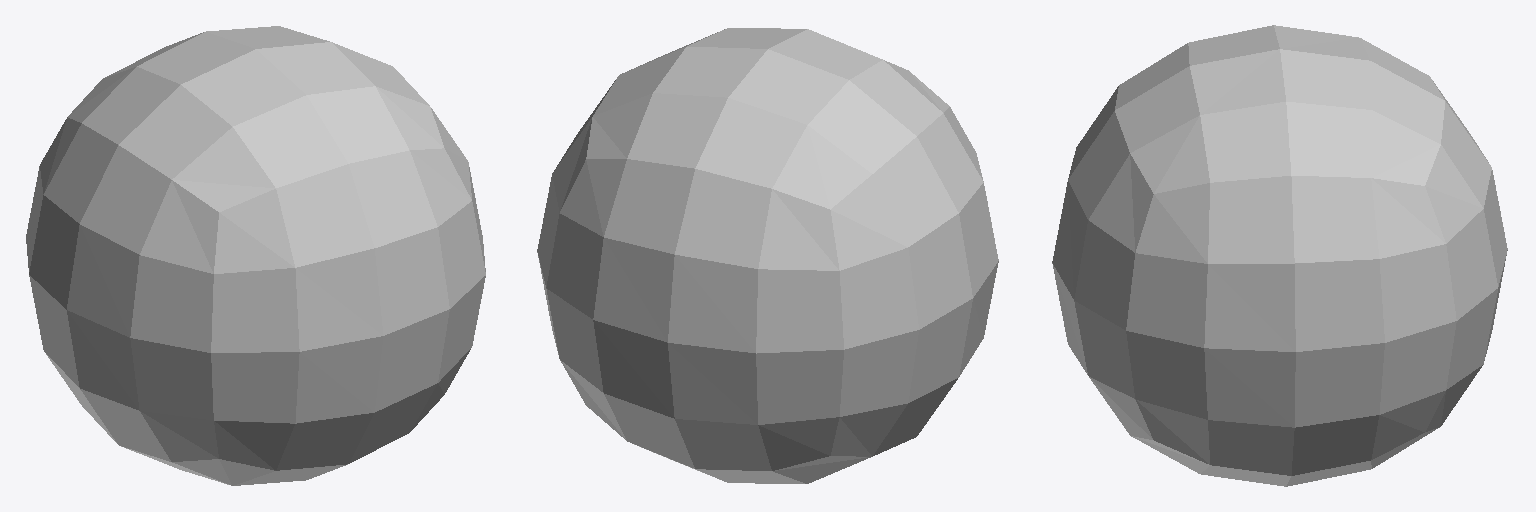
Rendered from Cobra-olhoD.obj.
3 renders of one model, left to right at view 1: azimuth 30°, elevation 25°; view 2: azimuth 150°, elevation 25°; view 3: azimuth 270°, elevation 25°, orthographic.
Parts seen in each view (by area): view 1: Cobra-olhoD_Cubo.012; view 2: Cobra-olhoD_Cubo.012; view 3: Cobra-olhoD_Cubo.012.
Part boxes in pixels (bbox=[...]): Cobra-olhoD_Cubo.012: bbox=[26, 26, 485, 485]; Cobra-olhoD_Cubo.012: bbox=[537, 28, 998, 483]; Cobra-olhoD_Cubo.012: bbox=[1052, 25, 1507, 486].
Size of the model in its own units: 0.1827 by 0.1831 by 0.1827.